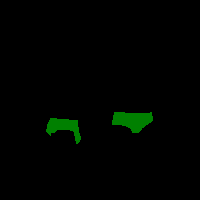mutande: (46, 118, 81, 144), (112, 111, 153, 133)
